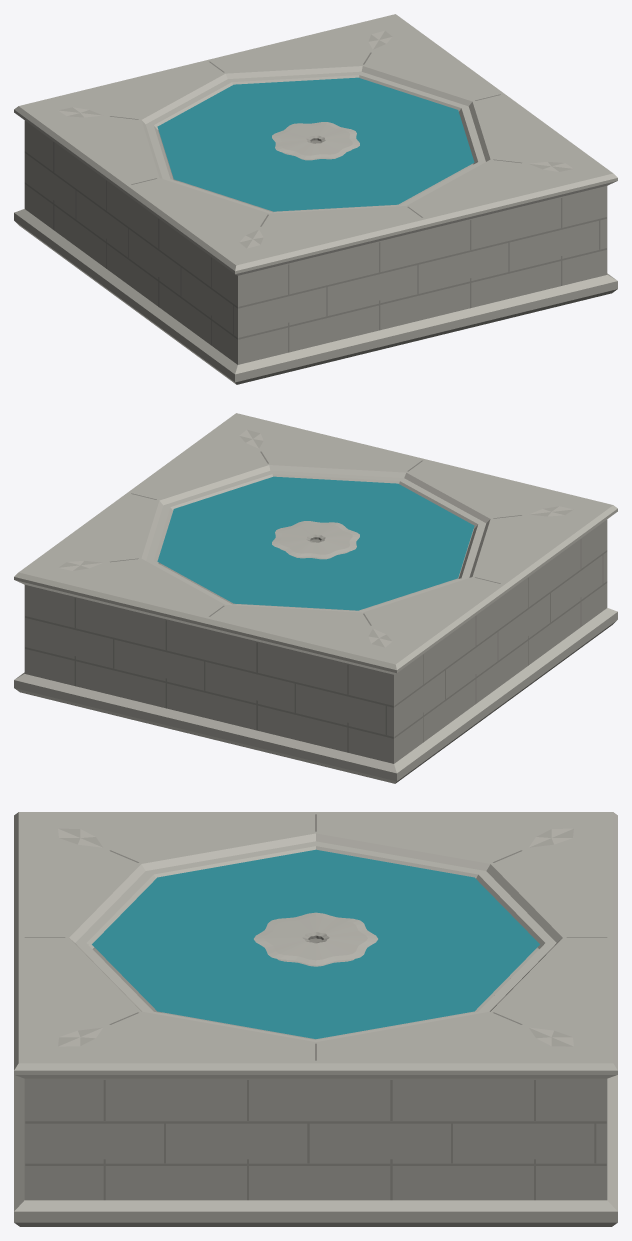
File: alpine-fountain.glb
3 renders of one model, top to bottom at view 1: azimuth 30°, elevation 25°; view 2: azimuth 150°, elevation 25°; view 3: azimuth 270°, elevation 25°, orthographic. The views are drawn at different scales.
Visible parts, largest first — view 1: FountainA_Stone, FountainA_Water; view 2: FountainA_Stone, FountainA_Water; view 3: FountainA_Stone, FountainA_Water.
Part boxes in pixels (x1,y1,x2,y2): FountainA_Stone: (14,14,617,384); FountainA_Water: (157,77,474,211); FountainA_Stone: (14,413,617,783); FountainA_Water: (157,476,474,610); FountainA_Stone: (14,812,617,1226); FountainA_Water: (92,849,539,1038).
Bounding box in the file's own units: 8 × 2.4 × 8.
